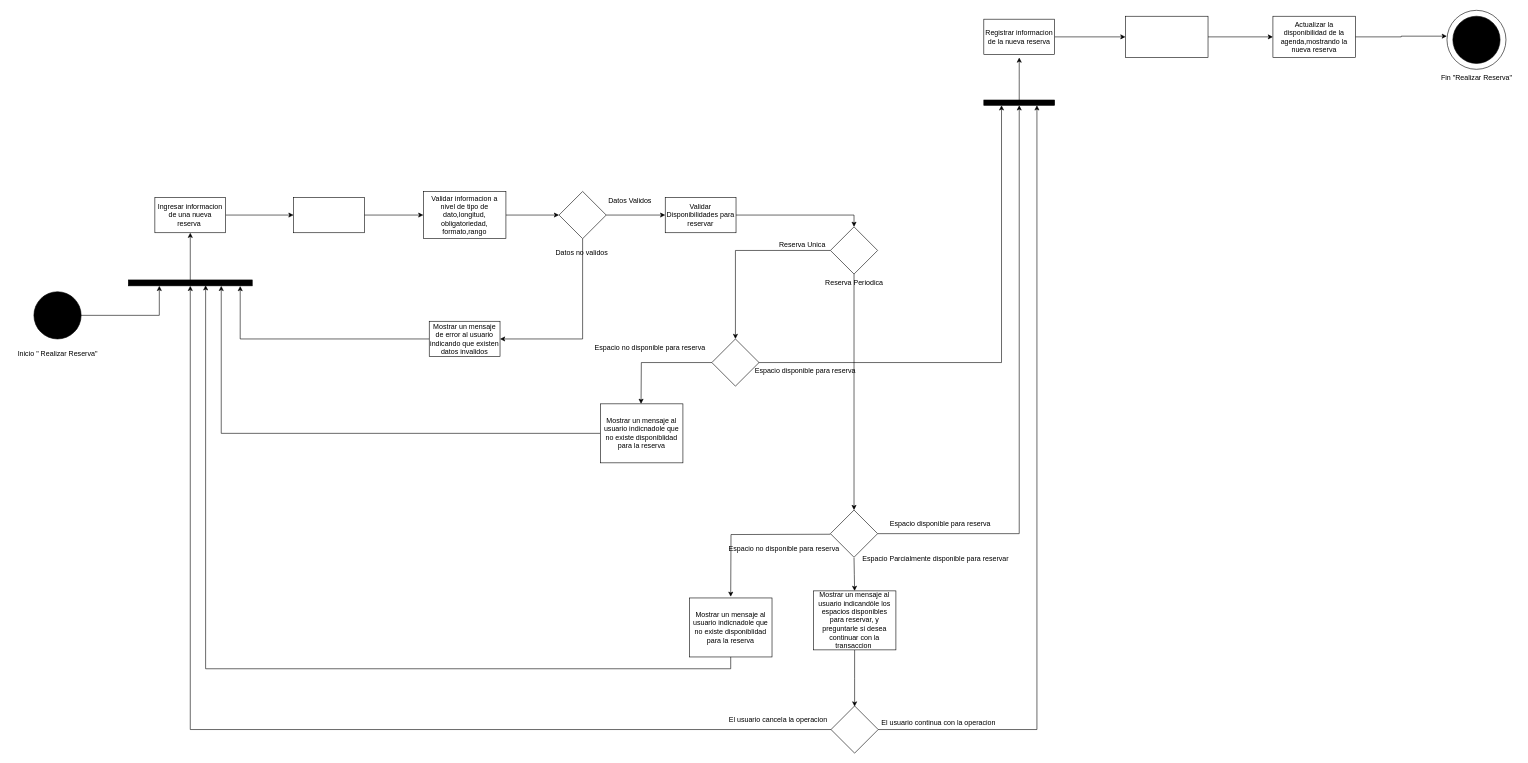
This 1528x763 diagram has some shape labels left out. Each missing label, with the centre of its shape:
"Ejecutar accion reservar" belongs at (x=328, y=215).
"Mostrar mensaje de exito indicando que la reserva se registró exitosamente" belongs at (x=1166, y=37).
